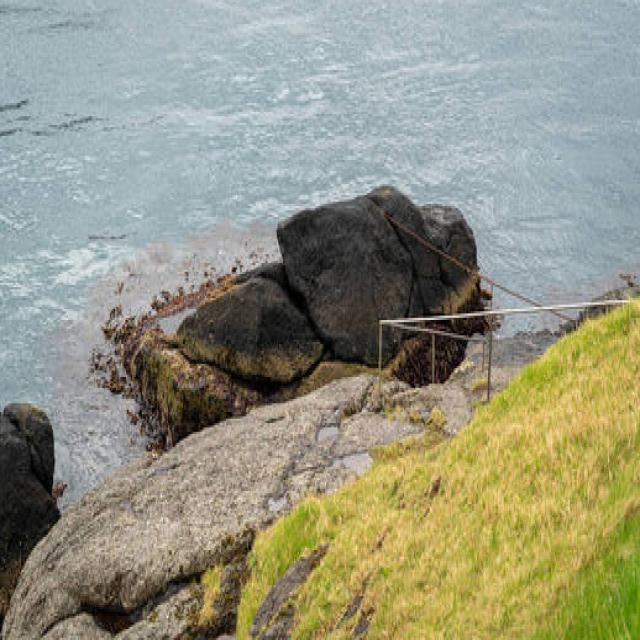reef: (2, 175, 472, 522)
